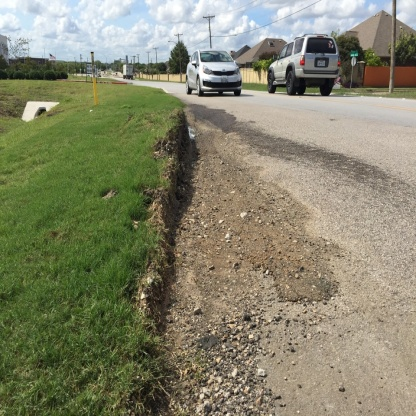pothole: (162, 101, 339, 325)
